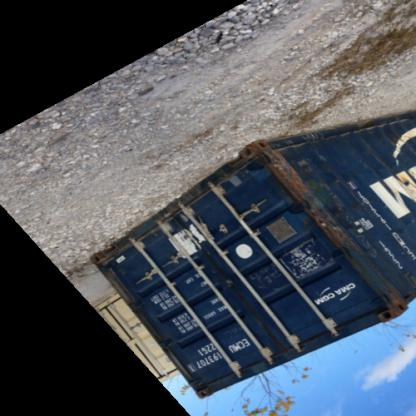Damage: (278, 142, 364, 248), (284, 246, 327, 282), (250, 262, 280, 296), (384, 292, 408, 322), (397, 168, 415, 202)
